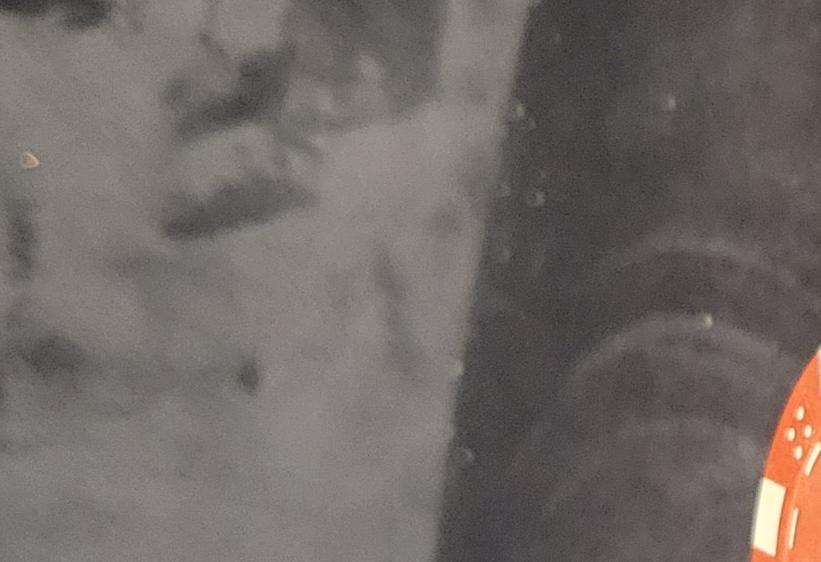Chip: (1, 346, 449, 562)
